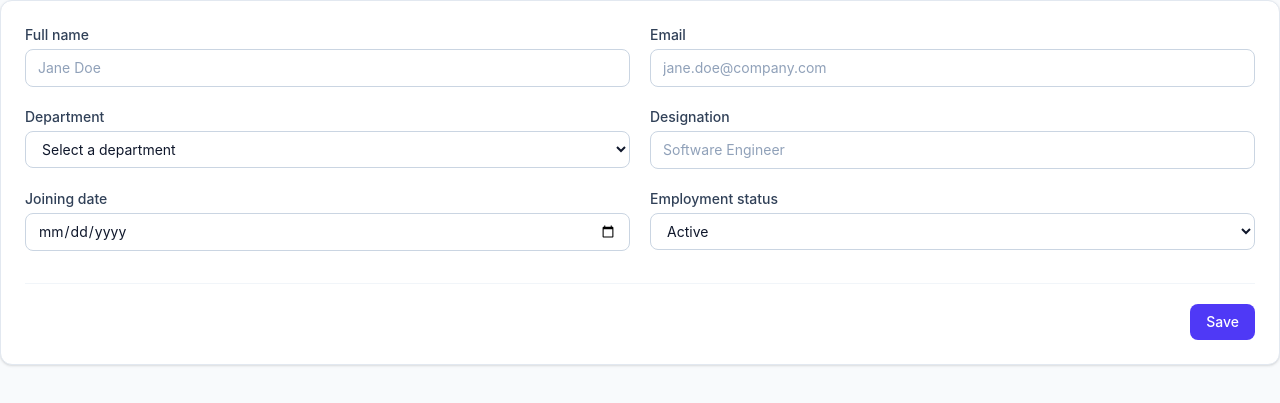
Test case: EmployeeForm › validates a field when it loses focus
Type "not-an-email" into the field labelled "Email". click: (952, 68)
box: [650, 49, 1255, 87]
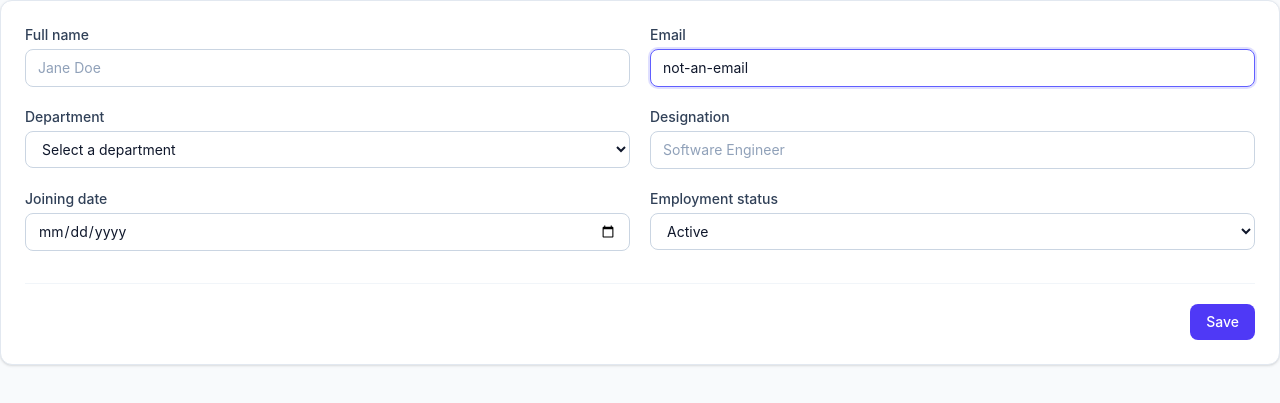
Press Tab
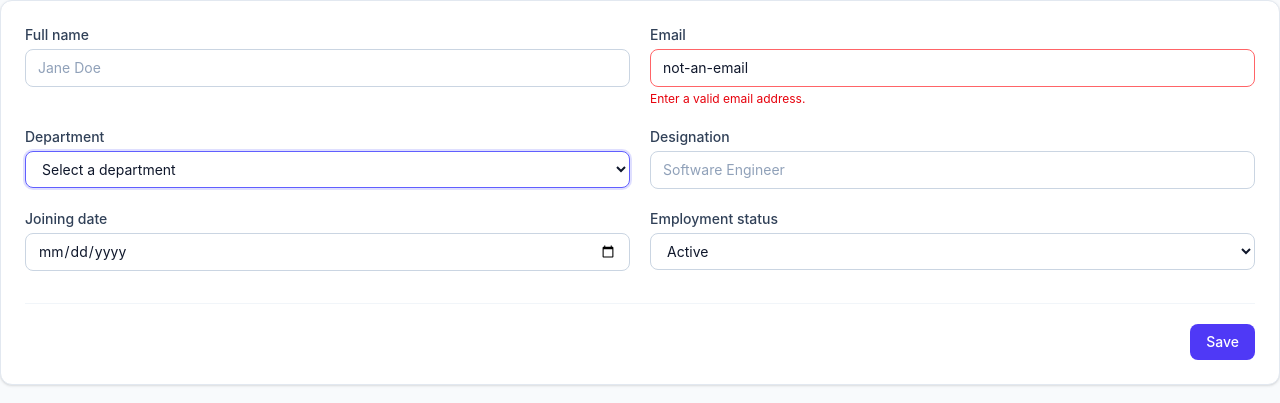
Result: the text "Enter a valid email address." is shown at [650, 91, 805, 106]
